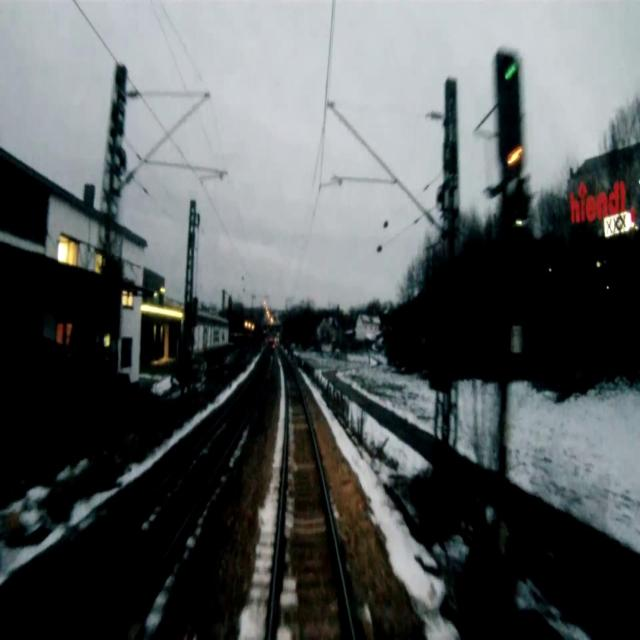rail-track: (86, 368, 265, 639), (272, 353, 351, 639)
